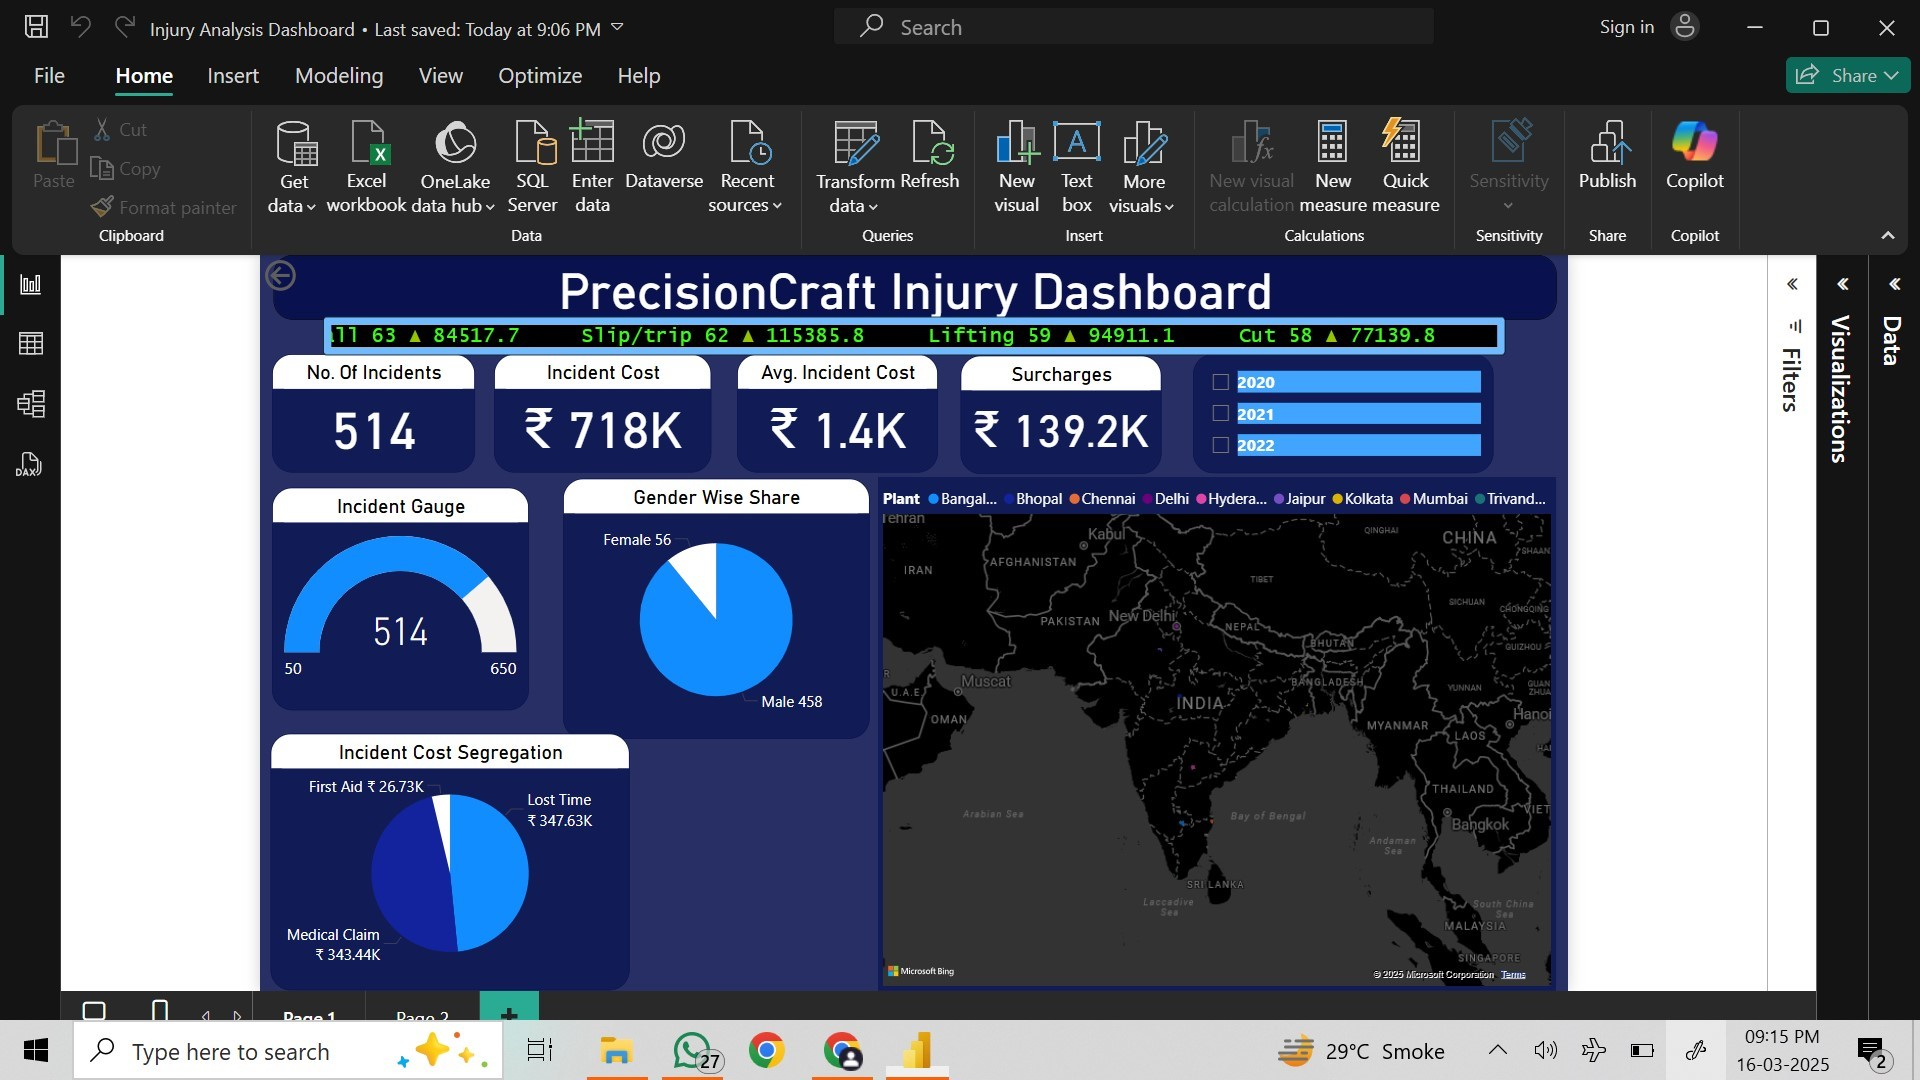

What the dashboard file says about the page in this screenshot:
{"tool":"powerbi","page":{"name":"Page 1","canvas":[1280,720],"ordinal":0},"visuals":[{"type":"textbox","title":"PrecisionCraft Injury Dashboard","box":[12.7,0,1255.6,63.5],"z":0},{"type":"card","title":"No. Of Incidents","fields":{"Values":["CountNonNull(SafetyData.Incident No.)"]},"box":[11.3,96.3,198.4,116],"z":1000},{"type":"card","title":"Incident Cost","fields":{"Values":["Sum(SafetyData.Incident Cost)"]},"box":[229,96.3,212.9,116],"z":2000},{"type":"card","title":"Avg. Incident Cost","fields":{"Values":["Avg(SafetyData.Incident Cost)"]},"box":[466.1,96.3,196.8,116],"z":3000},{"type":"card","title":"Surcharges","fields":{"Values":["SafetyData.SC Diff."]},"box":[685.9,97.9,196.8,116],"z":4000},{"type":"pieChart","title":"Gender Wise Share","fields":{"Y":["CountNonNull(SafetyData.Incident No.)"],"Category":["SafetyData.Gender"]},"box":[296.8,218,299.8,254.4],"z":5000},{"type":"slicer","fields":{"Values":["SafetyData.Year"]},"box":[913.1,96.9,293.8,116.6],"z":6000},{"type":"actionButton","box":[0,0,100,40],"z":7000},{"type":"gauge","title":"Incident Gauge","fields":{"MinValue":["SafetyData.Base Value"],"MaxValue":["SafetyData.Max Value"],"Y":["Count(SafetyData.Incident No.)"]},"box":[12.1,227.1,251.4,218],"z":8000},{"type":"pieChart","title":"Incident Cost Segregation","fields":{"Y":["Sum(SafetyData.Incident Cost)"],"Category":["SafetyData.Report Type"]},"box":[10.6,467.9,351.3,251.4],"z":9000},{"type":"filledMap","fields":{"Category":["SafetyData.Plant"],"Series":["SafetyData.Plant"]},"box":[604.2,216.5,663.2,502.7],"z":10000},{"type":"ScrollingTextVisual1448795304508","fields":{"Category":["SafetyData.Incident Type"],"Measure Absolute":["Count(SafetyData.Incident No.)"],"Measure Deviation":["Sum(SafetyData.Inc. Cost with Surcharge)"]},"box":[62.1,60.6,1156.9,37.9],"z":11000}]}

Visuals, with their boxes on the page's 1280x720 design canvas (x1, y1, x2, y2). These are canvas units, not pixel positions in the 1920x1080 screenshot, which may show the page scaled, cropped or inside an application window:
"PrecisionCraft Injury Dashboard" textbox: rect(13, 0, 1268, 64)
"No. Of Incidents" card: rect(11, 96, 210, 212)
"Incident Cost" card: rect(229, 96, 442, 212)
"Avg. Incident Cost" card: rect(466, 96, 663, 212)
"Surcharges" card: rect(686, 98, 883, 214)
"Gender Wise Share" pieChart: rect(297, 218, 597, 472)
slicer - SafetyData.Year: rect(913, 97, 1207, 214)
actionButton: rect(0, 0, 100, 40)
"Incident Gauge" gauge: rect(12, 227, 264, 445)
"Incident Cost Segregation" pieChart: rect(11, 468, 362, 719)
filledMap - SafetyData.Plant x SafetyData.Plant: rect(604, 216, 1267, 719)
ScrollingTextVisual1448795304508 - SafetyData.Incident Type x Count(SafetyData.Incident No.): rect(62, 61, 1219, 98)
